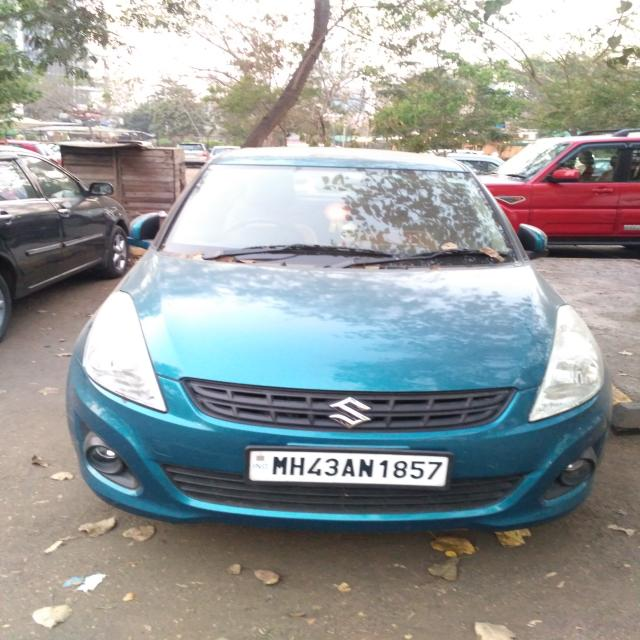Number-Plate: (255, 450, 447, 482)
